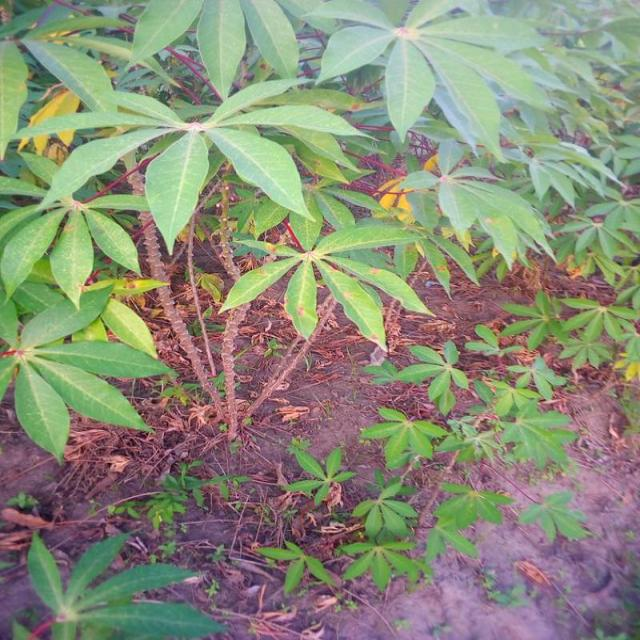cassava leaf: (144, 126, 210, 255)
